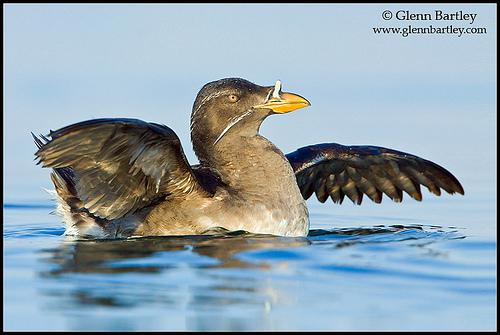008.Rhinoceros_Auklet: (28, 76, 466, 241)
